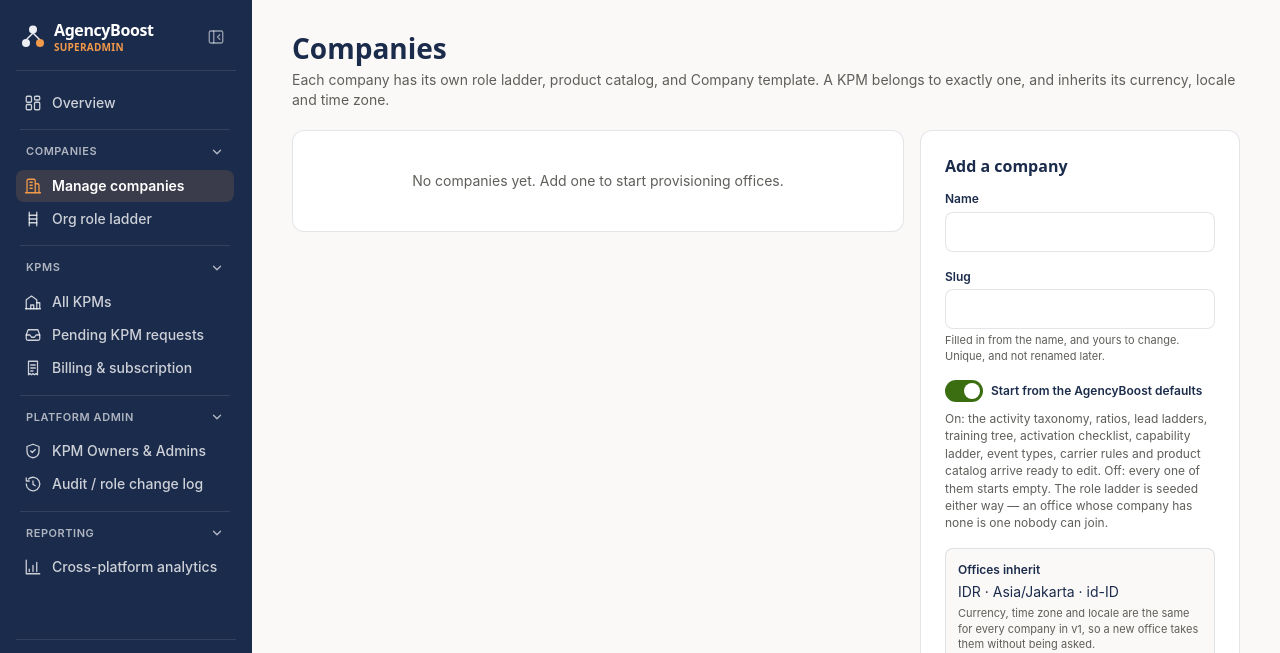
companies › P3.5-T14 AC-7: fills the slug in from the name
Type "Chubb Life & General" into the field labelled "Name".
click(1080, 232); type("Chubb Life & General")  # box left=945, top=212, right=1215, bottom=252
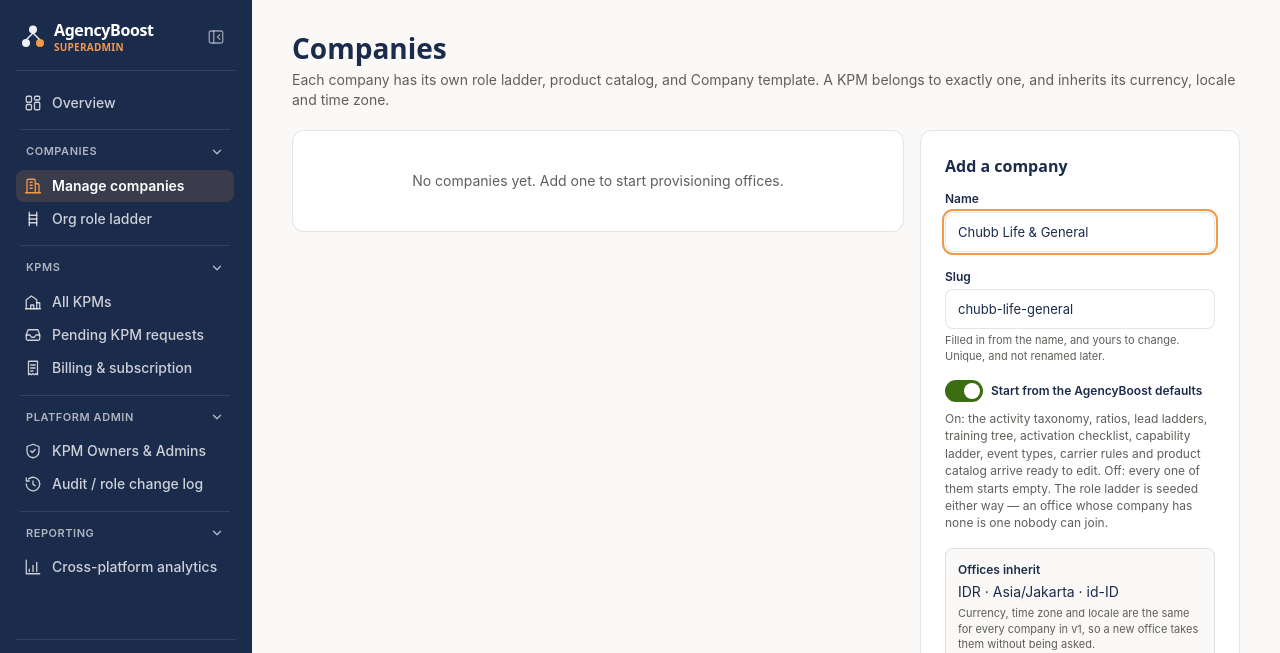
Result: the field labelled "Slug" holds "chubb-life-general" at left=945, top=289, right=1215, bottom=329
